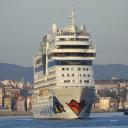cruises: (31, 3, 99, 123)
